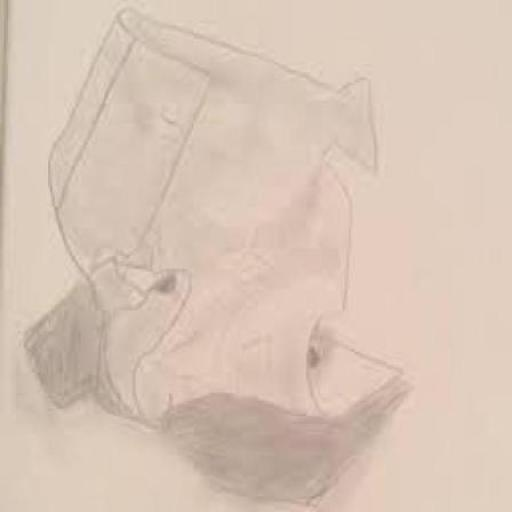paper: (4, 2, 427, 511)
